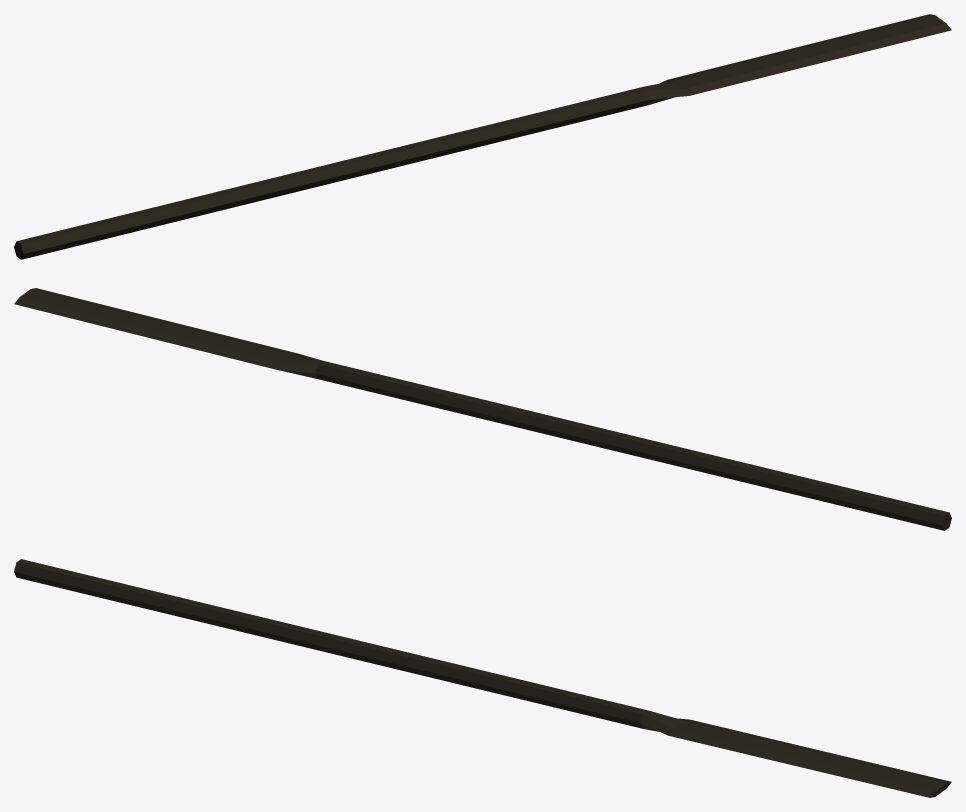
The model's file is Oar.fbx.
The picture shows the model from 3 angles, top to bottom: view 1: azimuth 30°, elevation 25°; view 2: azimuth 150°, elevation 25°; view 3: azimuth 330°, elevation 25°; orthographic projection.
Visible parts, largest first — view 1: Oar_01; view 2: Oar_01; view 3: Oar_01.
Boxes of the visible parts, left/top/right/bottom form: Oar_01: left=14, top=14, right=951, bottom=259; Oar_01: left=14, top=288, right=951, bottom=530; Oar_01: left=14, top=559, right=951, bottom=797.
Size of the model in its own units: 1308 by 20.68 by 54.15.
